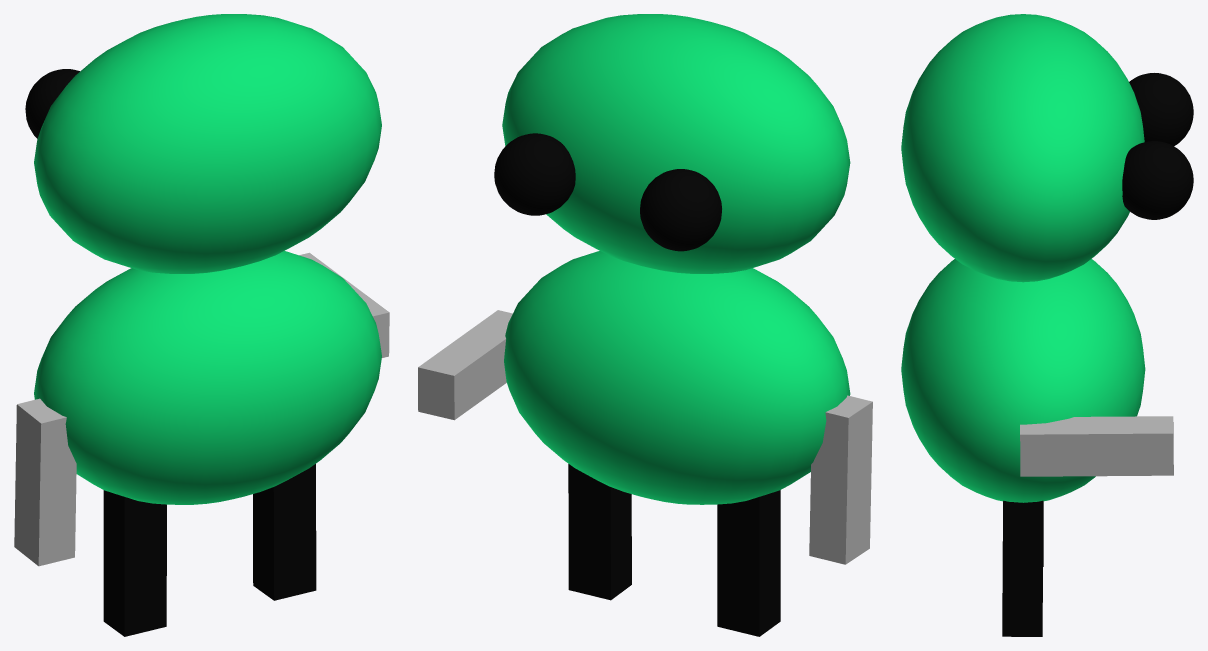
The model's file is AlienIdling02.fbx.
3 views of the same model, side by side, from view 1: azimuth 30°, elevation 25°; view 2: azimuth 150°, elevation 25°; view 3: azimuth 270°, elevation 25° (orthographic). The views are drawn at different scales.
Parts seen in each view (by area): view 1: Head, MainBody, LArm, LLeg, RLeg, RArm; view 2: Head, MainBody, LArm, LLeg, RLeg, RArm; view 3: Head, MainBody, RArm, RLeg.
Part boxes in pixels (x1,y1,x2,y2): Head: (25,14,381,273); MainBody: (34,251,381,504); LArm: (14,398,76,566); LLeg: (103,490,166,636); RLeg: (253,464,316,600); RArm: (299,252,389,357); Head: (494,14,850,273); MainBody: (504,251,850,504); LArm: (809,395,872,564); LLeg: (717,490,780,636); RLeg: (568,464,631,600); RArm: (418,310,512,420); Head: (901,14,1193,282); MainBody: (901,259,1145,502); RArm: (1020,416,1173,476); RLeg: (1002,500,1043,636).
Size of the model in its own units: 68.96 by 94.34 by 144.
